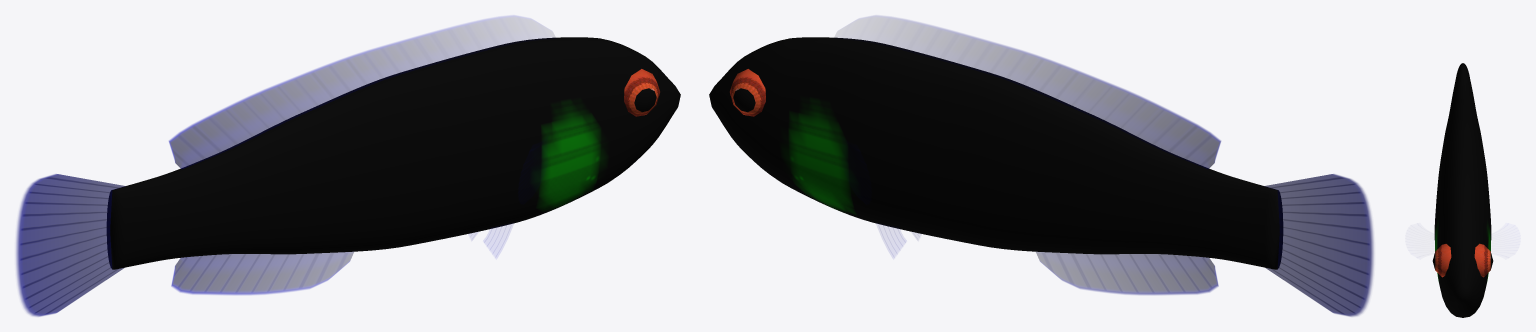
File: sixline_wrasse.glb
3 renders of one model, left to right at view 1: azimuth 30°, elevation 25°; view 2: azimuth 150°, elevation 25°; view 3: azimuth 270°, elevation 25°, orthographic. The views are drawn at different scales.
Visible parts, largest first — view 1: Body, FinDorsal, FinCaudal, FinAnal, EyeR; view 2: Body, FinDorsal, FinCaudal, FinAnal, EyeL; view 3: Body, EyeL, EyeR.
Boxes of the visible parts, x1=… form: Body: x1=107, y1=37, x2=680, y2=269; FinDorsal: x1=169, y1=16, x2=550, y2=168; FinCaudal: x1=16, y1=174, x2=125, y2=316; FinAnal: x1=171, y1=252, x2=353, y2=294; EyeR: x1=624, y1=69, x2=659, y2=116; Body: x1=709, y1=37, x2=1282, y2=269; FinDorsal: x1=839, y1=16, x2=1220, y2=168; FinCaudal: x1=1264, y1=174, x2=1373, y2=316; FinAnal: x1=1036, y1=252, x2=1218, y2=294; EyeL: x1=730, y1=69, x2=765, y2=116; Body: x1=1434, y1=63, x2=1491, y2=317; EyeL: x1=1474, y1=243, x2=1493, y2=277; EyeR: x1=1432, y1=244, x2=1451, y2=277.
Bounding box in the file's own units: 1 × 0.3357 × 0.2099.
4 materials, 3 textured.
